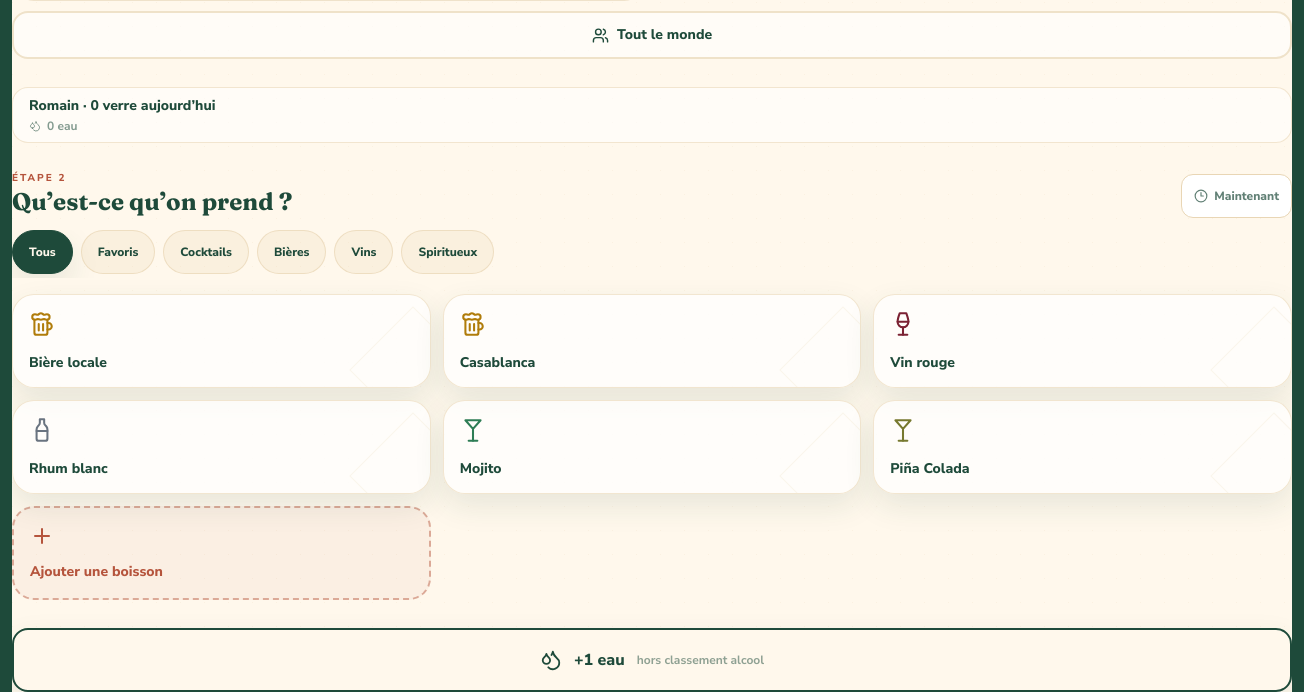
Test: ajout et annulation › annule l’ajout d’un seul verre
(page scrolled)
Click the button with aria-label "Ajouter un Mojito aux participants sélectionnés": (481, 468) [443,400,861,494]
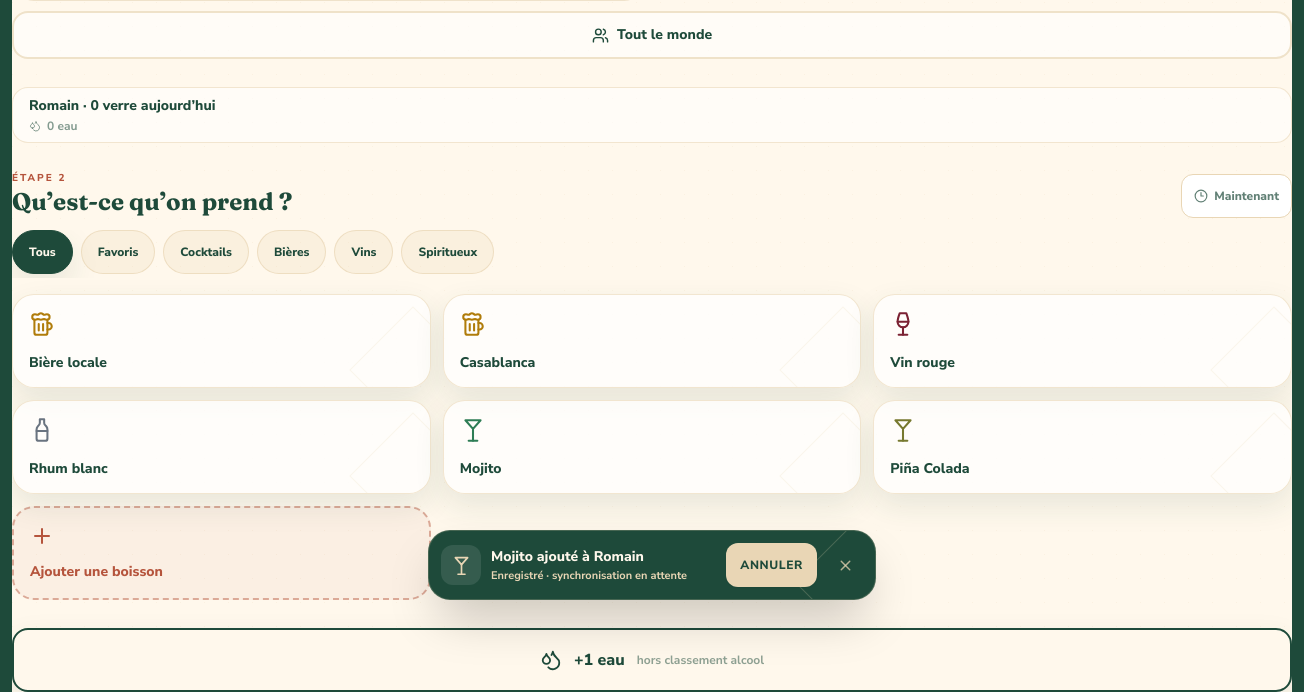
Click the button "Annuler": (772, 565) [726,543,817,587]
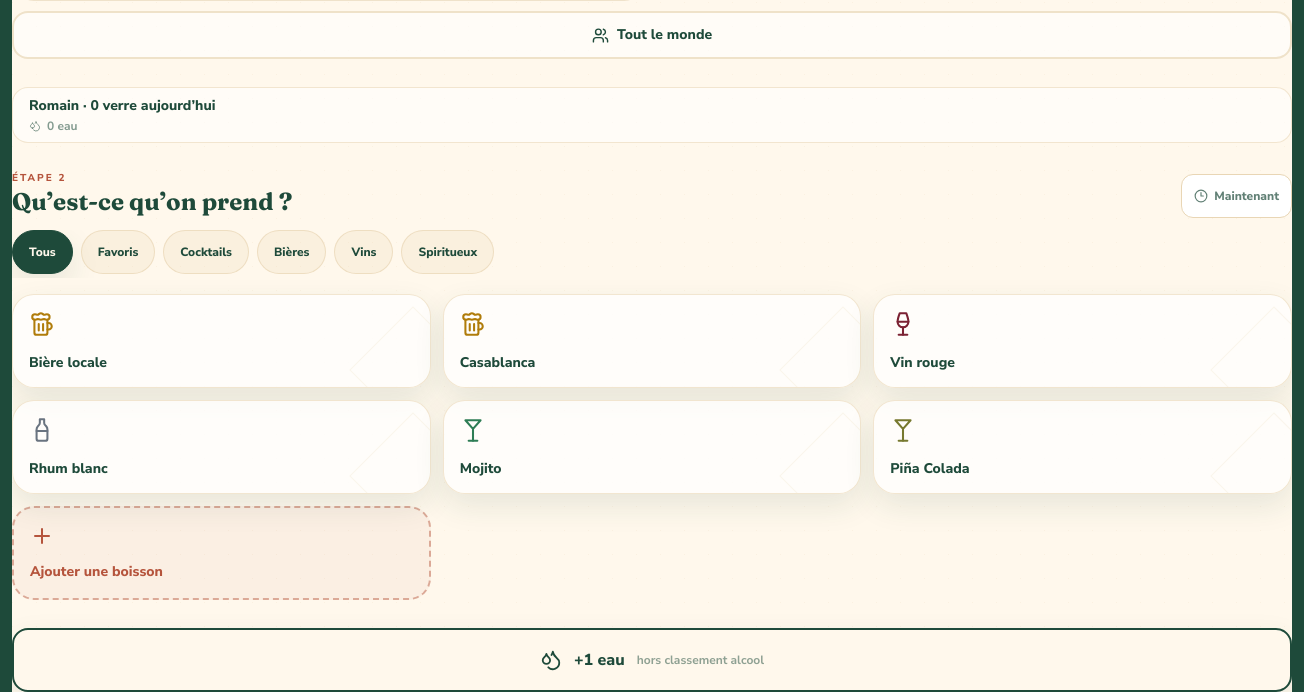
Check: the text "Mojito ajouté à Romain" is gone
